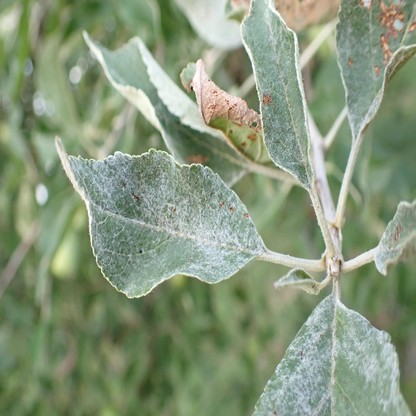powder: (54, 138, 265, 300), (252, 295, 413, 416), (241, 0, 315, 191), (335, 0, 415, 142), (373, 200, 416, 278)
